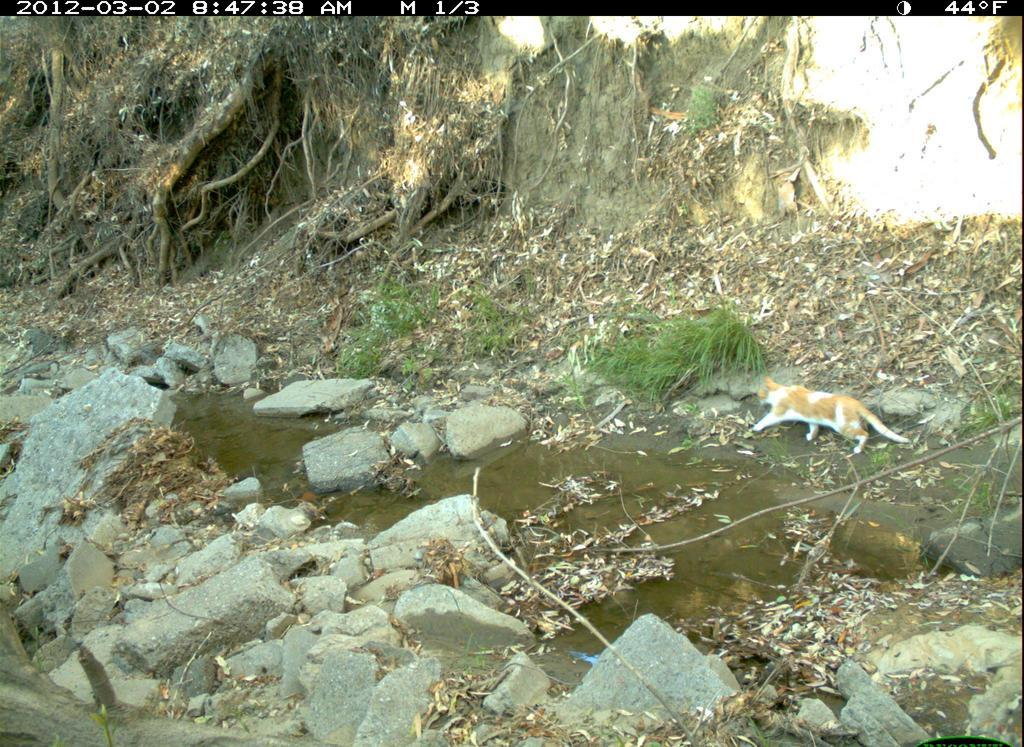cat: (742, 373, 920, 463)
